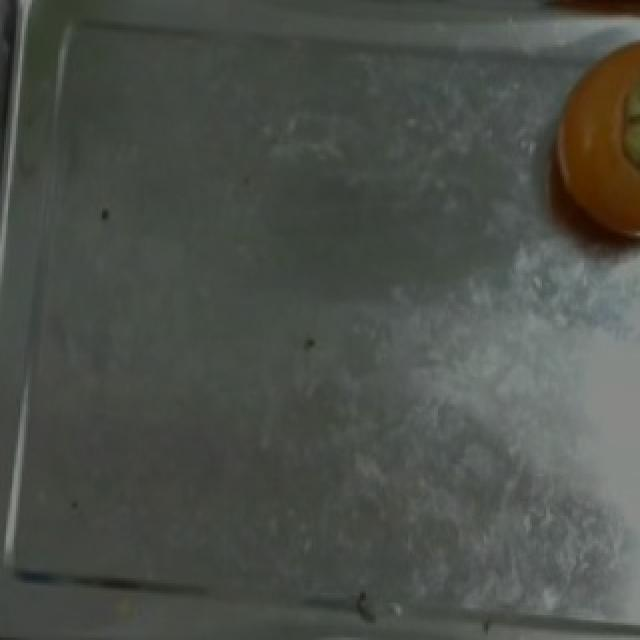Fruit: (524, 30, 640, 270), (430, 0, 640, 45)
